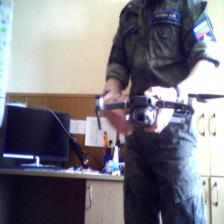drone: (87, 84, 217, 133)
